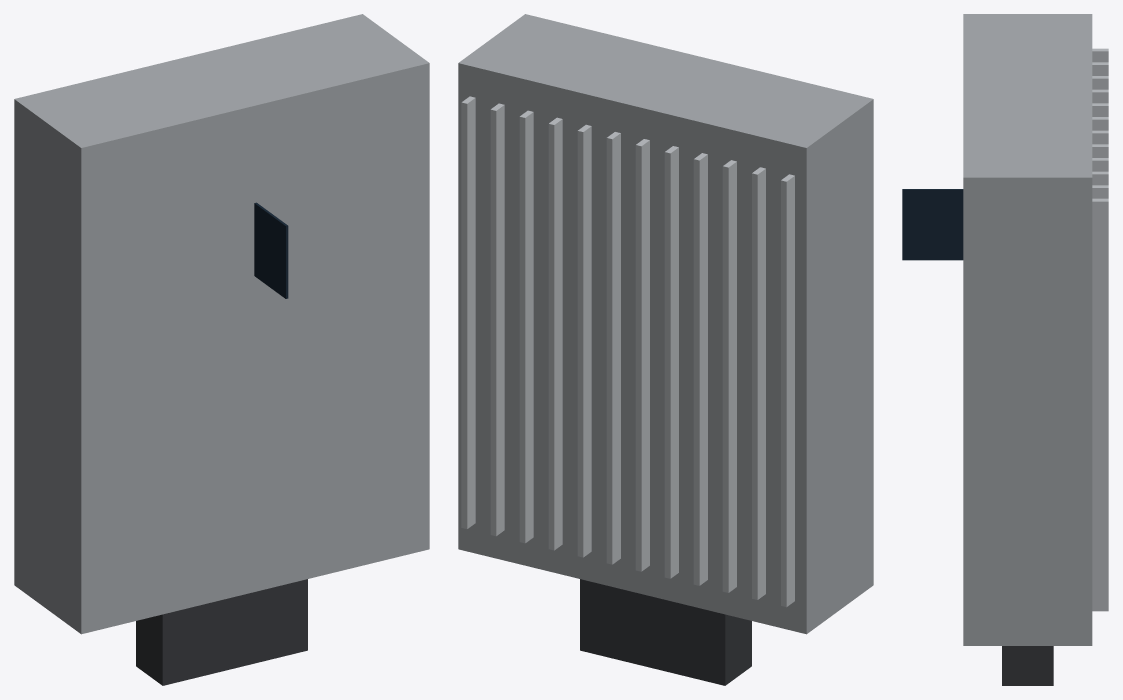
The picture shows the model from 3 angles, left to right: view 1: azimuth 30°, elevation 25°; view 2: azimuth 150°, elevation 25°; view 3: azimuth 270°, elevation 25°; orthographic projection. The views are drawn at different scales.
Visible parts, largest first — view 1: baseOffset=0.6;depth=0.25;height=0.8;material=steel_galv;pow (×3); view 2: baseOffset=0.6;depth=0.25;height=0.8;material=steel_galv;pow (×3); view 3: baseOffset=0.6;depth=0.25;height=0.8;material=steel_galv;pow (×4).
Part boxes in pixels (x1,y1,x2,y2): baseOffset=0.6;depth=0.25;height=0.8;material=steel_galv;pow (×3): (14,14,429,685); baseOffset=0.6;depth=0.25;height=0.8;material=steel_galv;pow (×3): (458,14,873,685); baseOffset=0.6;depth=0.25;height=0.8;material=steel_galv;pow (×4): (902,14,1108,685).
Size of the model in its own units: 0.6 by 0.319 by 0.95.
